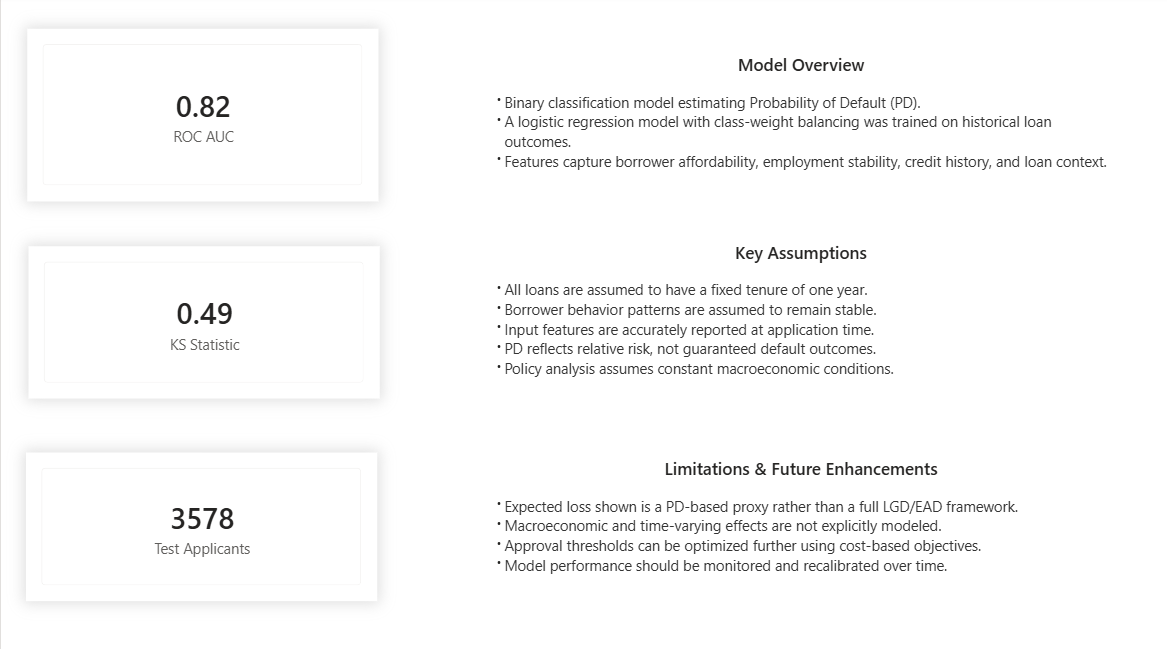

The page's visual inventory and layout, read from the dashboard file:
{"tool":"powerbi","page":{"name":"Model Overview & Assumptions","canvas":[1280,720],"ordinal":3},"visuals":[{"type":"cardVisual","fields":{"Data":["pd_scoring_output_pbi.KS Statistic"]},"box":[30.2,275.8,385.6,167.4],"z":0},{"type":"cardVisual","fields":{"Data":["pd_scoring_output_pbi.ROC AUC"]},"box":[28.8,37,385.6,189.4],"z":1},{"type":"cardVisual","fields":{"Data":["pd_scoring_output_pbi.Test Applicants"]},"box":[27.4,502.2,385.6,163.3],"z":2},{"type":"textbox","box":[529.7,59,697.1,167.4],"z":3},{"type":"textbox","box":[530,265,697,189],"z":4},{"type":"textbox","box":[530,502,697,163],"z":5}]}

Visuals, with their boxes in screenshot pixels (x1, y1, x2, y2), scaled from the page's 1280x720 canvas onto the 1167x649 screenshot:
cardVisual - pd_scoring_output_pbi.KS Statistic: rect(28, 249, 379, 399)
cardVisual - pd_scoring_output_pbi.ROC AUC: rect(26, 33, 378, 204)
cardVisual - pd_scoring_output_pbi.Test Applicants: rect(25, 453, 377, 600)
textbox: rect(483, 53, 1118, 204)
textbox: rect(483, 239, 1119, 409)
textbox: rect(483, 452, 1119, 599)
